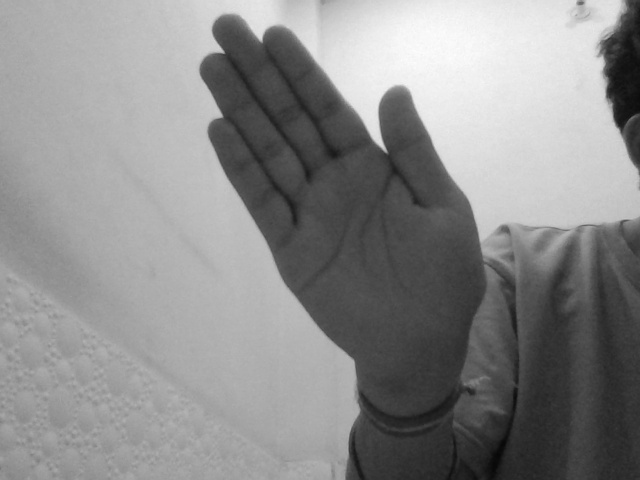Hello: (185, 12, 487, 383)
